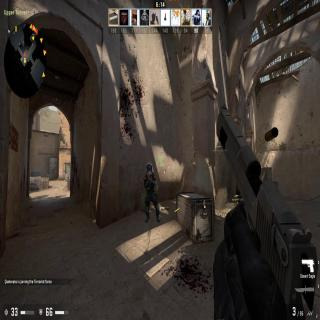CT-Body: (143, 164, 159, 218)
CT-Head: (147, 164, 153, 173)
